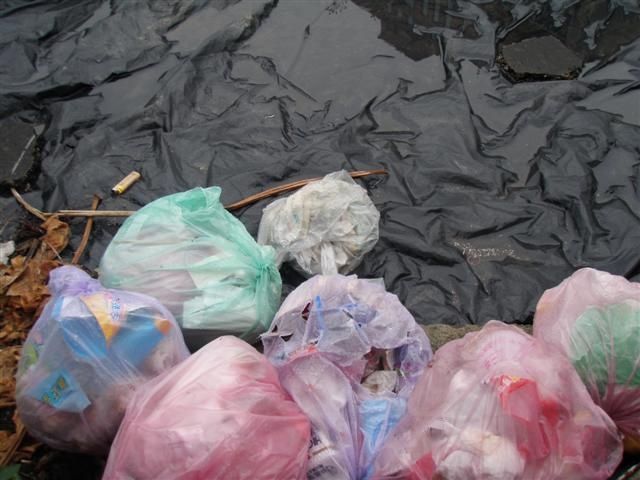plastic_bag: (1, 1, 640, 325), (373, 320, 624, 480), (261, 274, 434, 480), (15, 264, 192, 452), (100, 335, 311, 480), (99, 185, 281, 344), (259, 169, 381, 277)
